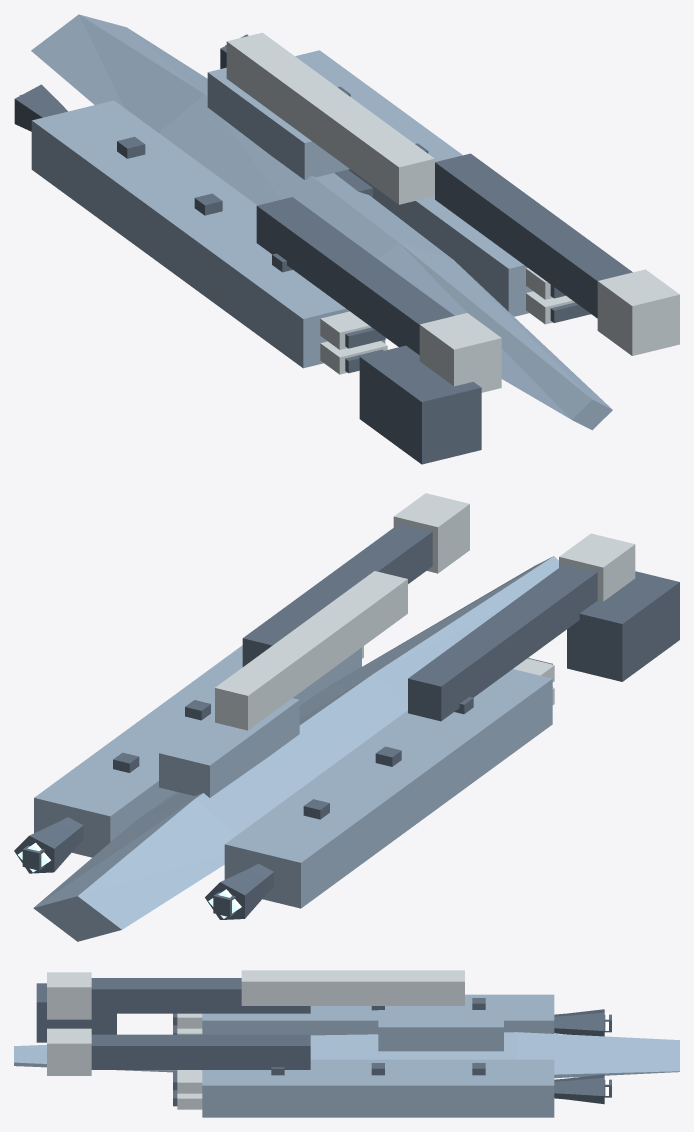
3 views of the same model, one above another, from view 1: azimuth 30°, elevation 25°; view 2: azimuth 150°, elevation 25°; view 3: azimuth 270°, elevation 25° (orthographic). The views are drawn at different scales.
Size of the model in its own units: 7.31 by 3.95 by 21.9.
